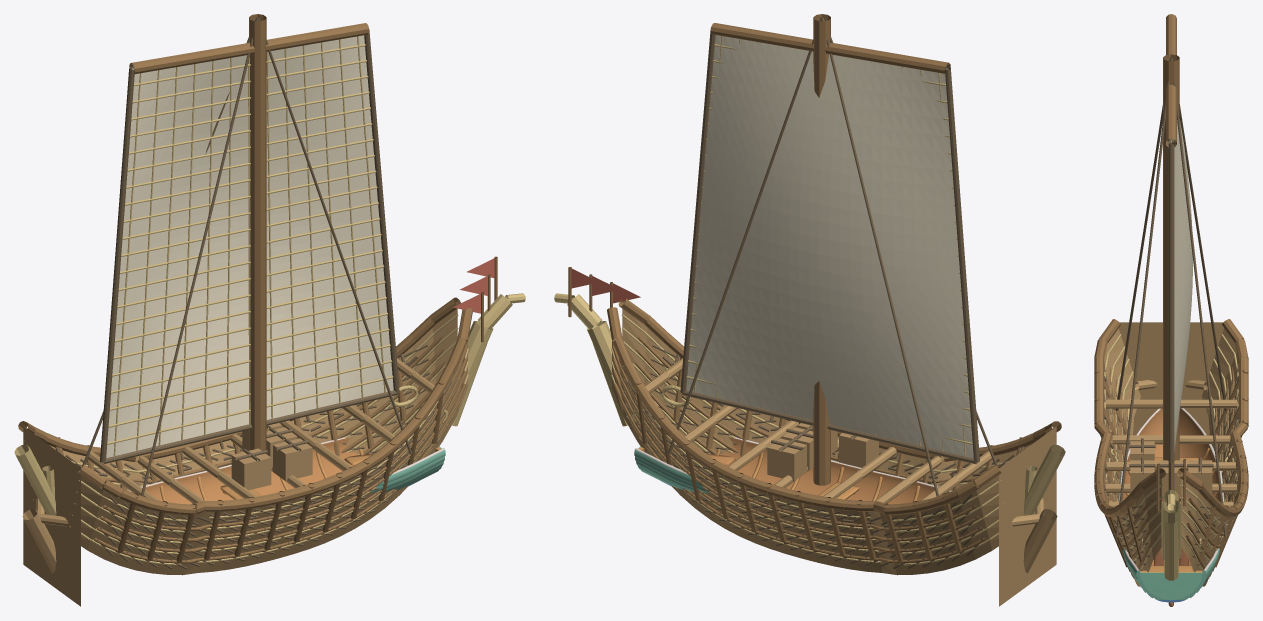
Rendered from mtepe-custom.glb.
3 renders of one model, left to right at view 1: azimuth 30°, elevation 25°; view 2: azimuth 150°, elevation 25°; view 3: azimuth 270°, elevation 25°, orthographic. The views are drawn at different scales.
Visible parts, largest first — view 1: mtepe woven rectangular Swahili mtepe mat sail, mtepe woven details and high prow carvings, mtepe joined curved outer hull planks, mtepe timber gunwale and ribs, mtepe teak masts sloped yards, mtepe billowed sail hems and standing rigging, mtepe individual teak strakes and outer wooden wales, mtepe mtepe flat broad square wooden stern transom, mtepe visible hull plank joints, rowboat_body, mtepe stitched Swahili sewn plank seams, mtepe transverse deck thwarts and reinforcing knees (+5 smaller); view 2: mtepe woven rectangular Swahili mtepe mat sail, mtepe joined curved outer hull planks, mtepe timber gunwale and ribs, mtepe billowed sail hems and standing rigging, mtepe individual teak strakes and outer wooden wales, mtepe mtepe flat broad square wooden stern transom, mtepe teak masts sloped yards, rowboat_body, mtepe visible hull plank joints, mtepe stitched Swahili sewn plank seams, mtepe transverse deck thwarts and reinforcing knees, mtepe handworked open cargo deck and timber boxes (+4 smaller); view 3: mtepe timber gunwale and ribs, mtepe billowed sail hems and standing rigging, mtepe joined curved outer hull planks, mtepe mtepe flat broad square wooden stern transom, rowboat_body, mtepe woven rectangular Swahili mtepe mat sail, mtepe teak masts sloped yards, mtepe transverse deck thwarts and reinforcing knees, mtepe visible hull plank joints, mtepe individual teak strakes and outer wooden wales, mtepe handworked open cargo deck and timber boxes, mtepe stitched Swahili sewn plank seams (+5 smaller).
Boxes of the visible parts, x1,y1,x2,y2 form: mtepe woven rectangular Swahili mtepe mat sail: (106, 35, 393, 457); mtepe woven details and high prow carvings: (14, 36, 487, 524); mtepe joined curved outer hull planks: (25, 302, 467, 575); mtepe timber gunwale and ribs: (18, 297, 472, 562); mtepe teak masts sloped yards: (129, 14, 369, 450); mtepe billowed sail hems and standing rigging: (82, 17, 412, 496); mtepe individual teak strakes and outer wooden wales: (93, 336, 467, 563); mtepe mtepe flat broad square wooden stern transom: (23, 426, 80, 606); mtepe visible hull plank joints: (24, 314, 468, 565); rowboat_body: (128, 436, 445, 504); mtepe stitched Swahili sewn plank seams: (65, 344, 458, 568); mtepe transverse deck thwarts and reinforcing knees: (86, 358, 434, 503); mtepe woven rectangular Swahili mtepe mat sail: (686, 35, 973, 457); mtepe joined curved outer hull planks: (612, 302, 1054, 575); mtepe timber gunwale and ribs: (607, 298, 1061, 562); mtepe billowed sail hems and standing rigging: (667, 17, 997, 496); mtepe individual teak strakes and outer wooden wales: (612, 336, 986, 563); mtepe mtepe flat broad square wooden stern transom: (999, 426, 1056, 606); mtepe teak masts sloped yards: (710, 14, 950, 485); rowboat_body: (634, 436, 951, 504); mtepe visible hull plank joints: (611, 314, 1055, 565); mtepe stitched Swahili sewn plank seams: (621, 344, 1014, 568); mtepe transverse deck thwarts and reinforcing knees: (645, 358, 992, 503); mtepe handworked open cargo deck and timber boxes: (767, 423, 878, 481); mtepe timber gunwale and ribs: (1094, 319, 1248, 571); mtepe billowed sail hems and standing rigging: (1115, 57, 1227, 537); mtepe joined curved outer hull planks: (1104, 328, 1238, 586); mtepe mtepe flat broad square wooden stern transom: (1118, 322, 1223, 435); rowboat_body: (1118, 408, 1224, 606); mtepe woven rectangular Swahili mtepe mat sail: (1174, 119, 1192, 452); mtepe teak masts sloped yards: (1163, 14, 1179, 460); mtepe transverse deck thwarts and reinforcing knees: (1105, 399, 1237, 507); mtepe visible hull plank joints: (1104, 334, 1238, 574); mtepe individual teak strakes and outer wooden wales: (1108, 367, 1234, 568); mtepe handworked open cargo deck and timber boxes: (1130, 441, 1212, 498); mtepe stitched Swahili sewn plank seams: (1104, 362, 1238, 579).
Size of the model in its own units: 9.23 by 9.13 by 2.57.
Materials: 7 (1 with a texture image).
